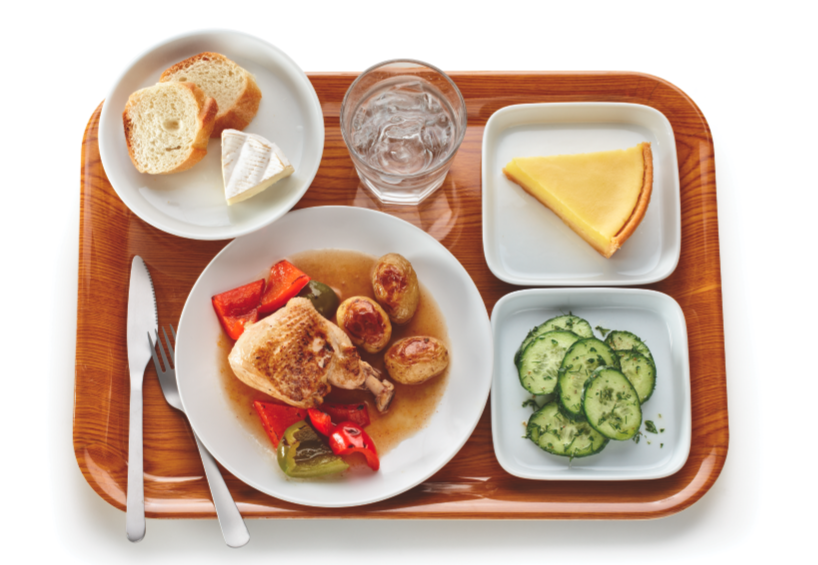cutlery: (124, 248, 158, 543)
drink: (340, 58, 466, 205)
plate: (176, 205, 490, 508), (97, 30, 326, 244), (492, 285, 692, 480), (483, 104, 681, 288)
